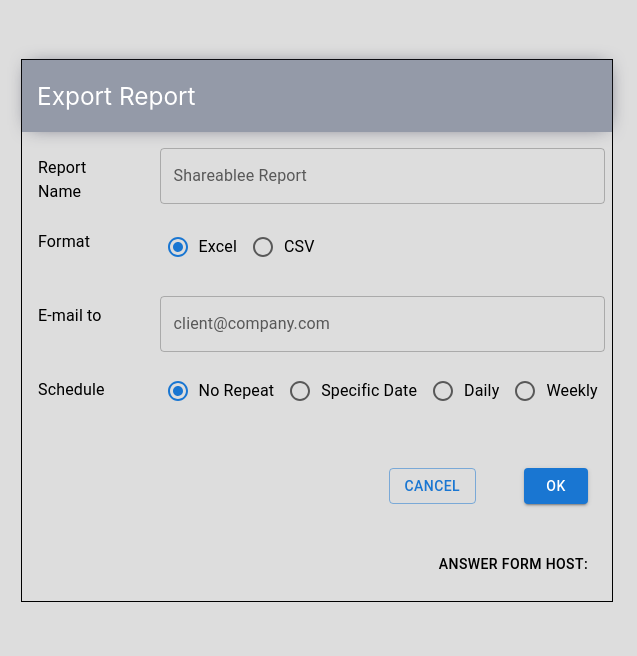
Test: <Modal /> Component! › change content to Daily
Click the radio button labelled "Daily" at (465,390), box [431, 378, 499, 402]
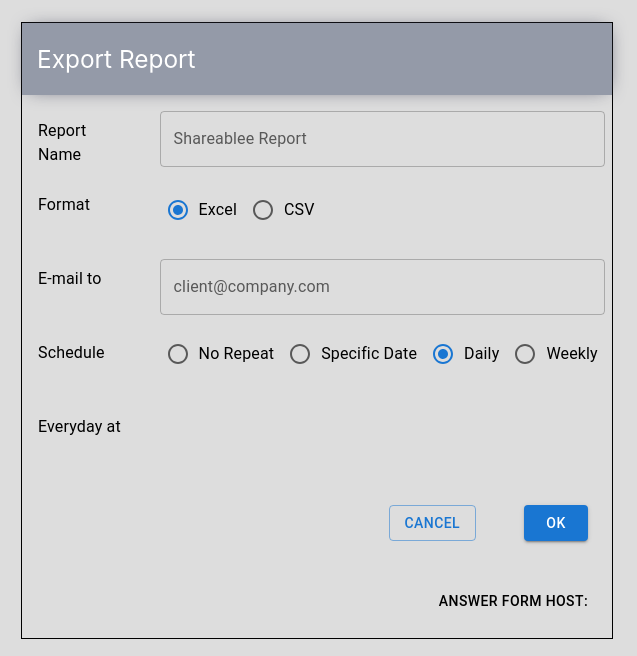
Check: the text "Everyday at" is shown, box [38, 416, 121, 436]
